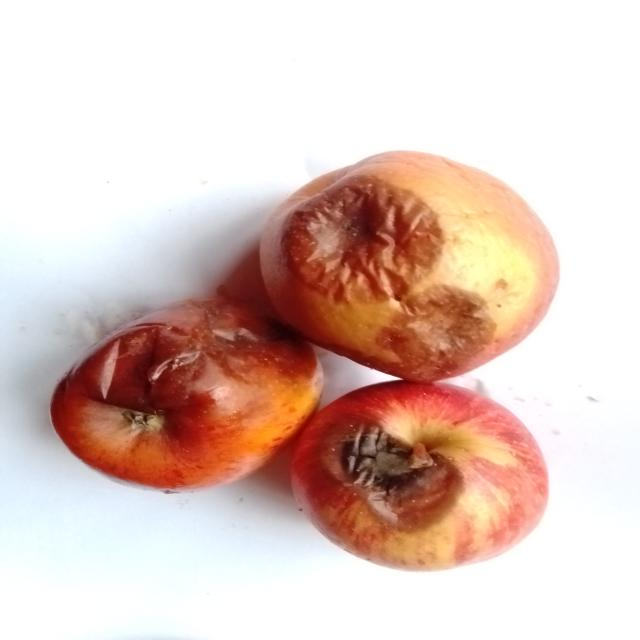apple: (261, 152, 558, 381), (51, 297, 322, 490), (292, 381, 548, 569)
